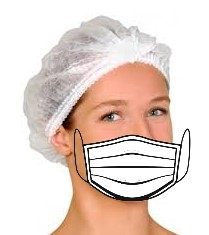with_mask_and_cap: (38, 23, 175, 199)
